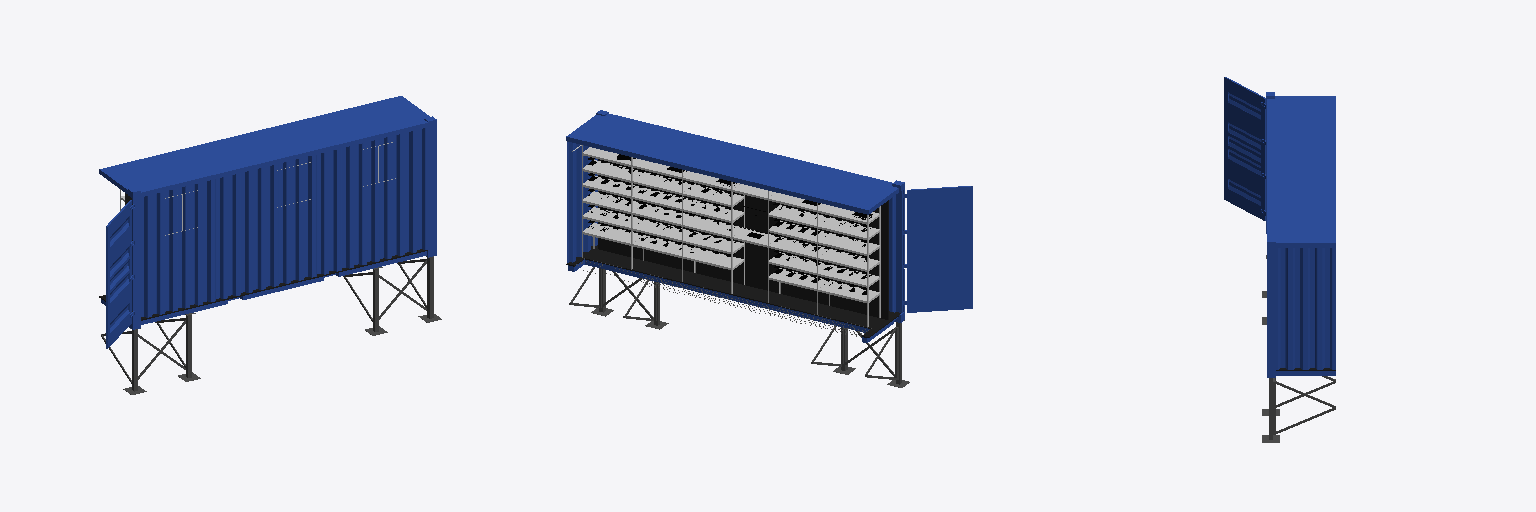
Rendered from containerRight.obj.
3 views of the same model, side by side, from view 1: azimuth 30°, elevation 25°; view 2: azimuth 150°, elevation 25°; view 3: azimuth 270°, elevation 25° (orthographic).
Parts seen in each view (by area): view 1: model__karkas, model__opori, model__dveri; view 2: model__karkas, model__polki, model__dveri, model__peregorodka, model__opori, model__tehnika__BP; view 3: model__karkas, model__dveri, model__opori.
Part boxes in pixels (x1,y1,x2,y2): model__karkas: (99,96,436,329); model__opori: (101,256,441,394); model__dveri: (106,200,134,348); model__karkas: (566,110,904,342); model__polki: (572,145,880,326); model__dveri: (903,186,972,312); model__peregorodka: (598,159,888,319); model__opori: (569,267,909,387); model__tehnika__BP: (588,157,871,294); model__karkas: (1266,92,1335,377); model__dveri: (1224,77,1265,220); model__opori: (1262,255,1335,442).
Bounding box in the file's own units: 707 × 382 × 193.